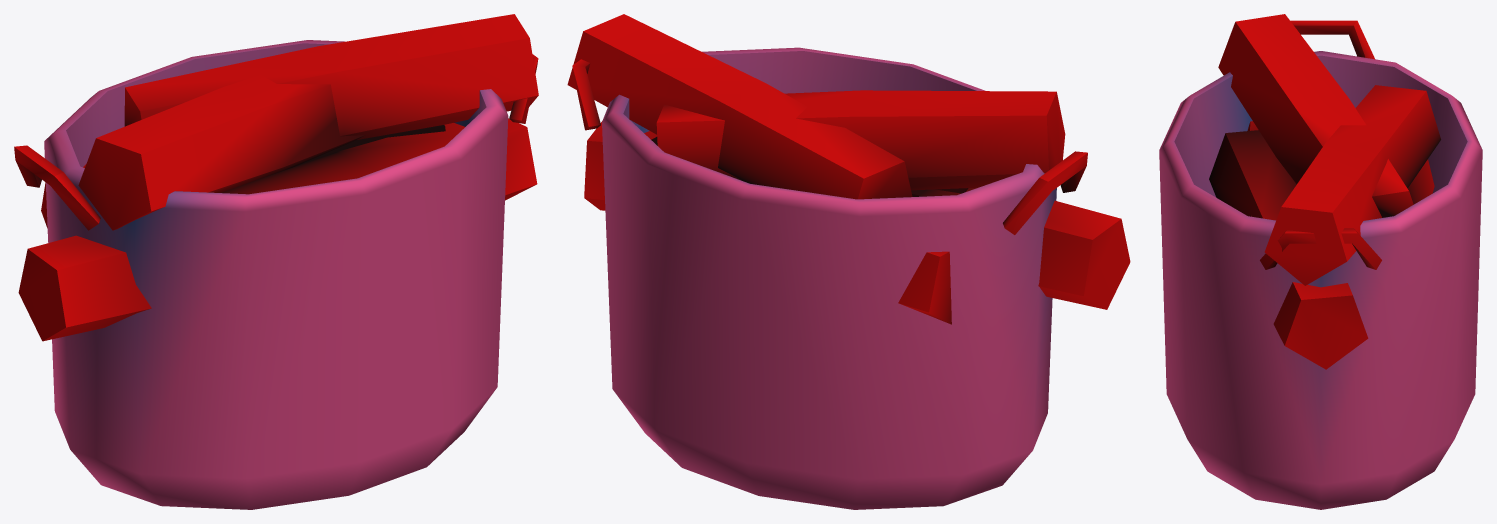
Rendered from CI_Living_LogBasket.glb.
The picture shows the model from 3 angles, left to right: view 1: azimuth 30°, elevation 25°; view 2: azimuth 150°, elevation 25°; view 3: azimuth 270°, elevation 25°; orthographic projection. The views are drawn at different scales.
Visible parts, largest first — view 1: CI_Living_LogBasket; view 2: CI_Living_LogBasket; view 3: CI_Living_LogBasket.
Part boxes in pixels (x1,y1,x2,y2): CI_Living_LogBasket: (14,14,538,509); CI_Living_LogBasket: (567,14,1130,509); CI_Living_LogBasket: (1159,14,1482,509).
Bounding box in the file's own units: 0.495 × 0.3408 × 0.3019.
